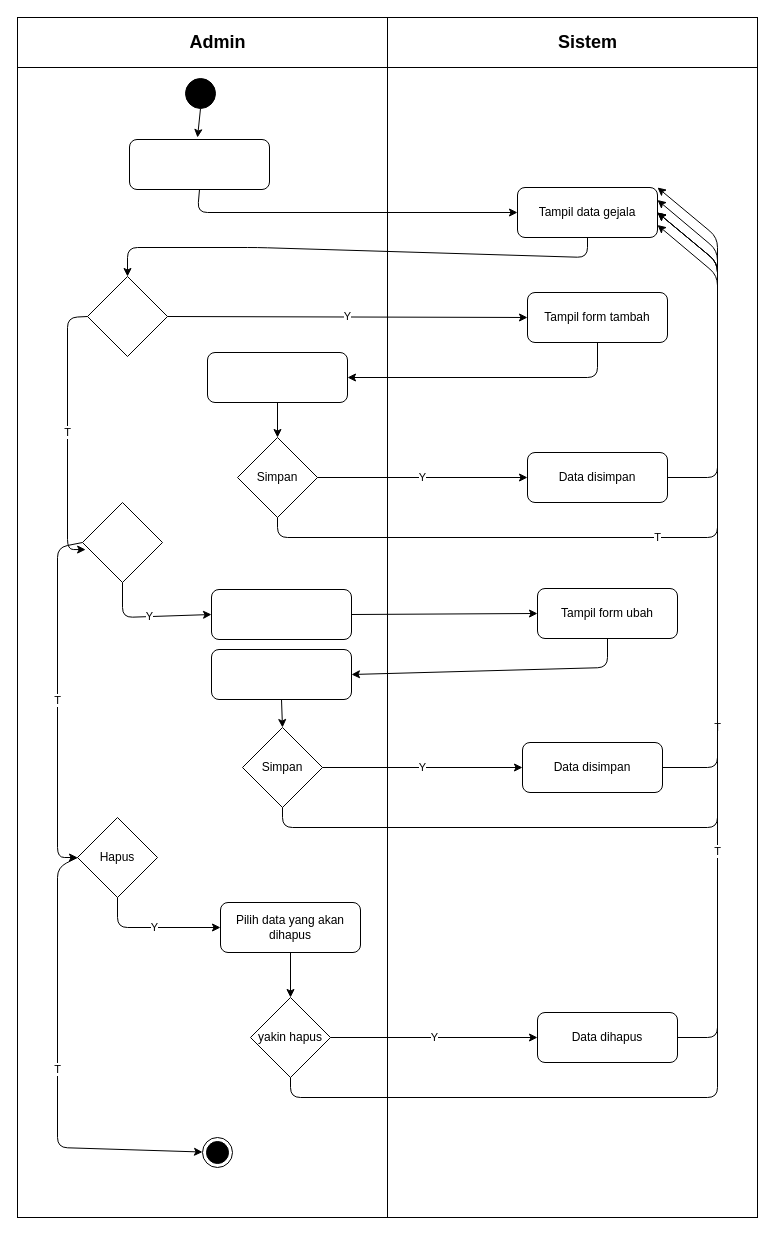
Some shapes in this 775 by 1235 pixel diagram are drawn without their labels. The centre of each missing label's shape, as x and y in pixels:
"Pilih data yang di ubah" belongs at [281,614].
"Pilih menu gejala" belongs at [199,164].
"Tambah" belongs at [127,316].
"Tambah data" belongs at [277,377].
"Ubah" belongs at [122,542].
"Ubah data" belongs at [281,674].
